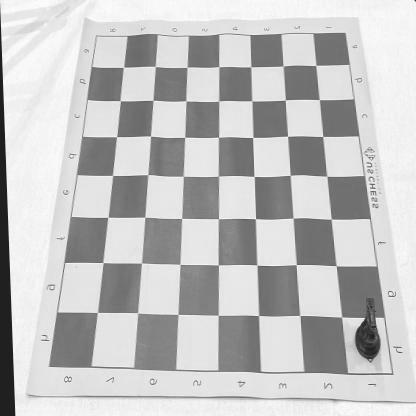black-knight: (350, 298, 378, 360)
